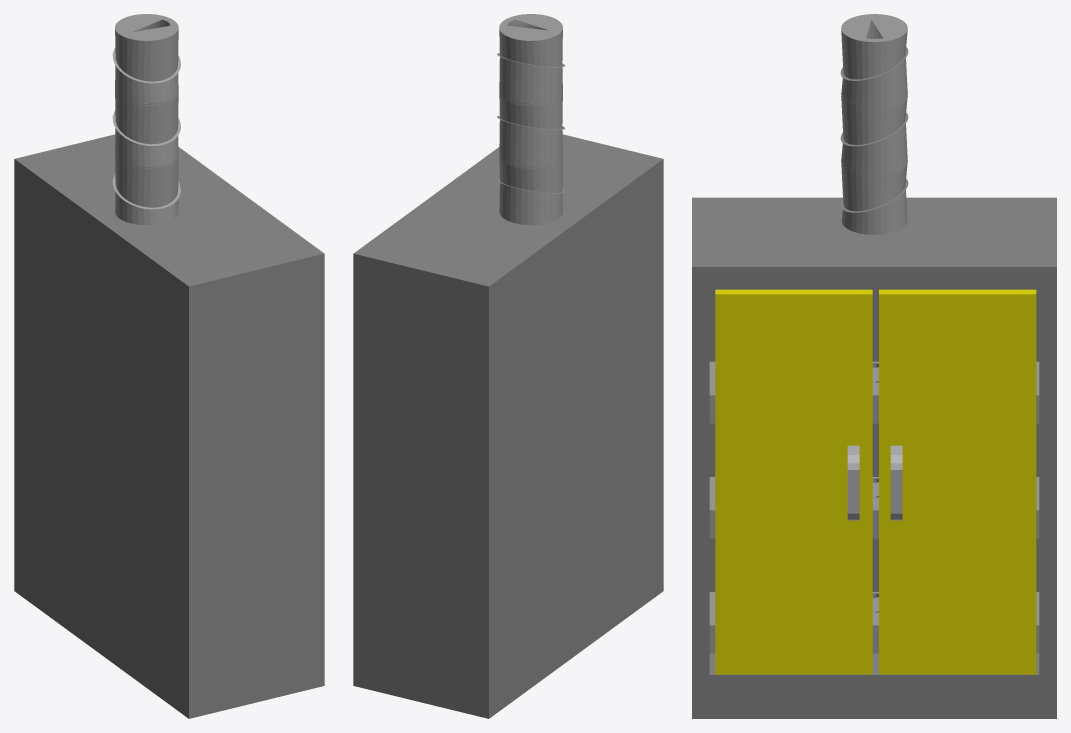
Rendered from brandkast.fbx.
The picture shows the model from 3 angles, left to right: view 1: azimuth 30°, elevation 25°; view 2: azimuth 150°, elevation 25°; view 3: azimuth 270°, elevation 25°; orthographic projection. The views are drawn at different scales.
Parts seen in each view (by area): view 1: Base, afzuigbuis; view 2: Base, afzuigbuis; view 3: Base, DoorLeft, DoorRight, afzuigbuis, Plate.003, Plate.002, Plate.001, HandleRight, HandleLeft.
Boxes of the visible parts, box(x1,y1,x2,y2) form: Base: box(14, 134, 324, 718); afzuigbuis: box(112, 14, 180, 224); Base: box(353, 134, 663, 718); afzuigbuis: box(497, 14, 565, 225); Base: box(692, 197, 1056, 718); DoorLeft: box(715, 289, 872, 674); DoorRight: box(879, 289, 1036, 674); afzuigbuis: box(840, 14, 908, 234); Plate.003: box(709, 361, 1039, 423); Plate.002: box(709, 592, 1039, 653); Plate.001: box(709, 477, 1039, 538); HandleRight: box(890, 445, 902, 520); HandleLeft: box(847, 445, 859, 520).
Bounding box in the file's own units: 77.39 × 280 × 144.
